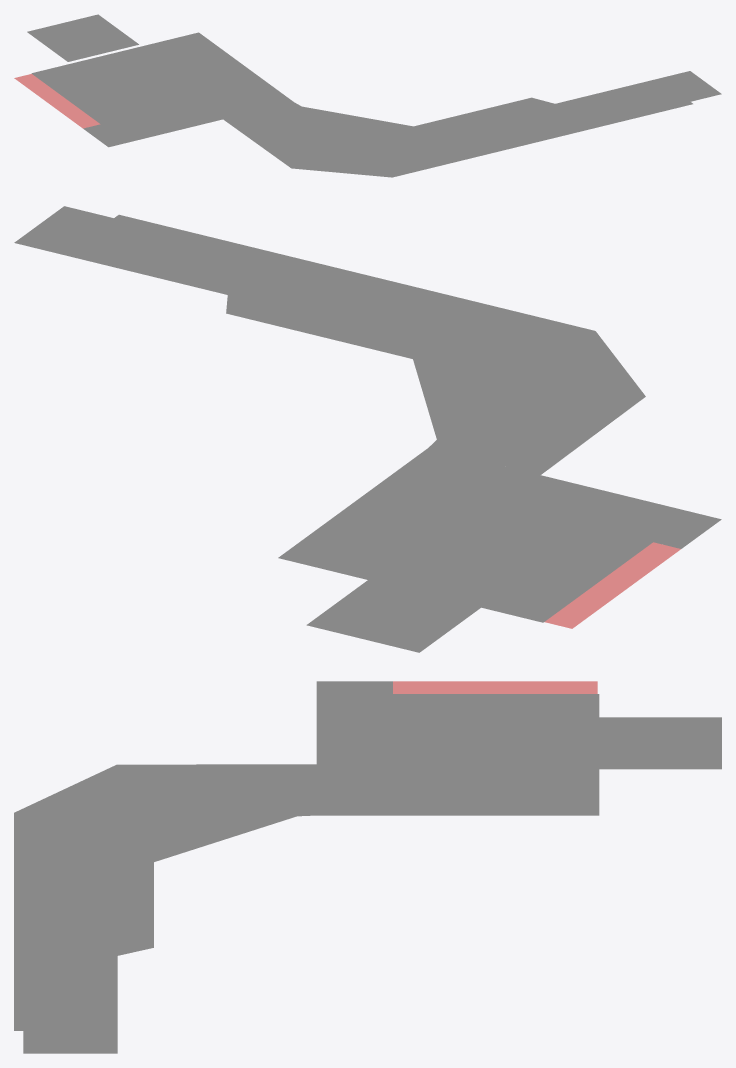
The model's file is S_Envi_Umeda_Ground_05g.gltf.
The picture shows the model from 3 angles, top to bottom: view 1: azimuth 30°, elevation 25°; view 2: azimuth 150°, elevation 25°; view 3: azimuth 270°, elevation 25°; orthographic projection. The views are drawn at different scales.
Parts seen in each view (by area): view 1: S_Envi_Umeda_Ground_05g; view 2: S_Envi_Umeda_Ground_05g; view 3: S_Envi_Umeda_Ground_05g.
Part boxes in pixels (x1,y1,x2,y2): S_Envi_Umeda_Ground_05g: (14,14,721,177); S_Envi_Umeda_Ground_05g: (14,206,721,652); S_Envi_Umeda_Ground_05g: (14,681,721,1053).
Size of the model in its own units: 62.42 by 0.2591 by 50.11.
